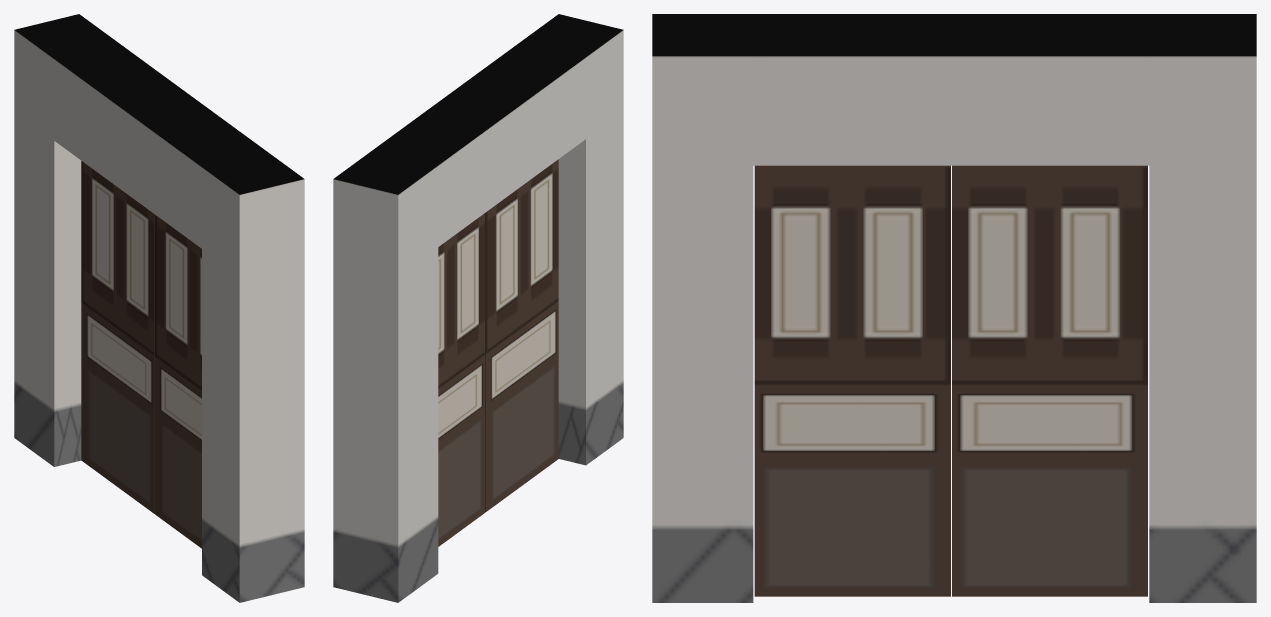
The model's file is lvl 2 door.fbx.
3 renders of one model, left to right at view 1: azimuth 30°, elevation 25°; view 2: azimuth 150°, elevation 25°; view 3: azimuth 270°, elevation 25°, orthographic. The views are drawn at different scales.
Parts seen in each view (by area): view 1: lvl 2 door, lvl 1 Door.002, lvl 1 Door.001; view 2: lvl 2 door, lvl 1 Door.001, lvl 1 Door.002; view 3: lvl 2 door, lvl 1 Door.001, lvl 1 Door.002.
Boxes of the visible parts, x1,y1,x2,y2 form: lvl 2 door: (14,14,304,602); lvl 1 Door.002: (81,161,154,513); lvl 1 Door.001: (155,215,201,548); lvl 2 door: (333,14,623,602); lvl 1 Door.001: (485,159,558,512); lvl 1 Door.002: (438,213,484,546); lvl 2 door: (652,14,1256,602); lvl 1 Door.001: (754,165,950,596); lvl 1 Door.002: (952,165,1147,596).
Bounding box in the file's own units: 1 × 6 × 6.01.
